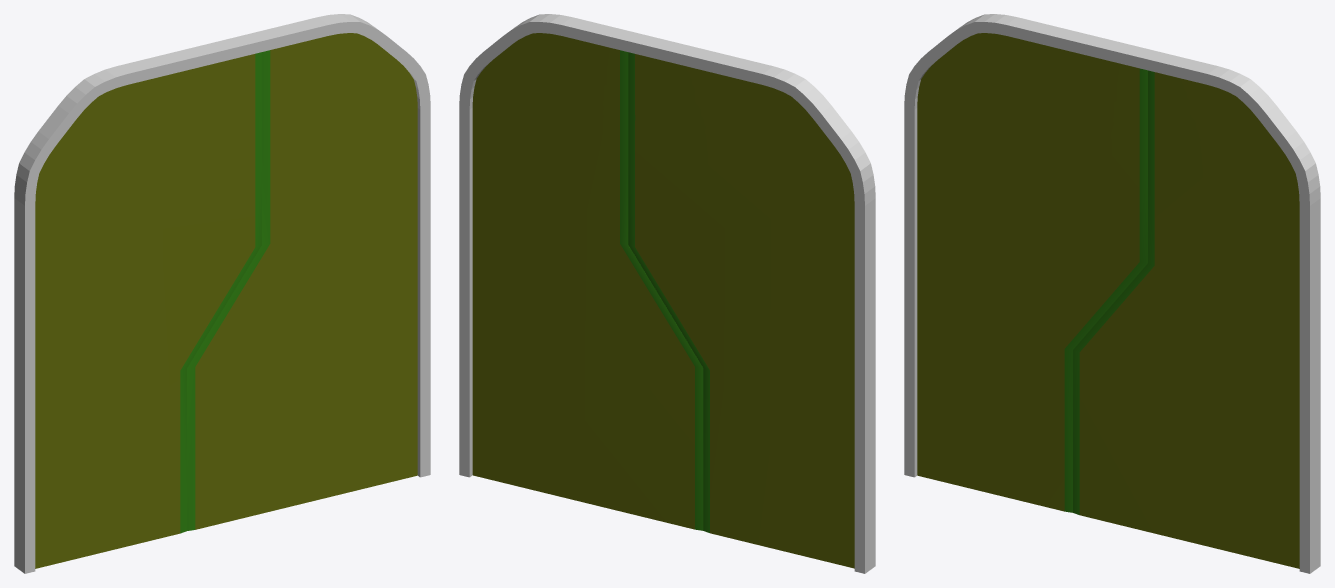
Rendered from Puerta.fbx.
3 renders of one model, left to right at view 1: azimuth 30°, elevation 25°; view 2: azimuth 150°, elevation 25°; view 3: azimuth 330°, elevation 25°, orthographic.
Visible parts, largest first — view 1: PuertaI, PuertaD, MarcoPuerta; view 2: PuertaD, PuertaI, MarcoPuerta; view 3: PuertaI, PuertaD, MarcoPuerta.
Part boxes in pixels (box(x1,y1,x2,y2)): PuertaI: box(35, 52, 261, 568); PuertaD: box(187, 33, 417, 530); MarcoPuerta: box(14, 14, 430, 573); PuertaD: box(472, 33, 703, 530); PuertaI: box(628, 52, 854, 568); MarcoPuerta: box(459, 14, 875, 573); PuertaI: box(917, 33, 1147, 512); PuertaD: box(1073, 70, 1299, 568); MarcoPuerta: box(904, 14, 1320, 573).
Size of the model in its own units: 2.17 by 2.43 by 0.0994.
